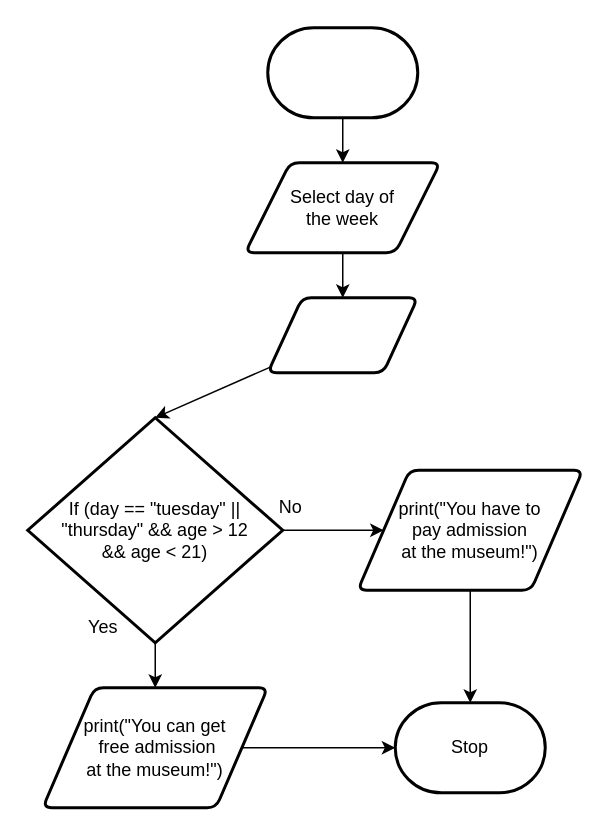
Image size: 609x834. Some labels were removed from this diagram. Each missing label, with the centre of its shape:
"Input age" goes at (x=342, y=335).
"Start" goes at (x=342, y=72).
